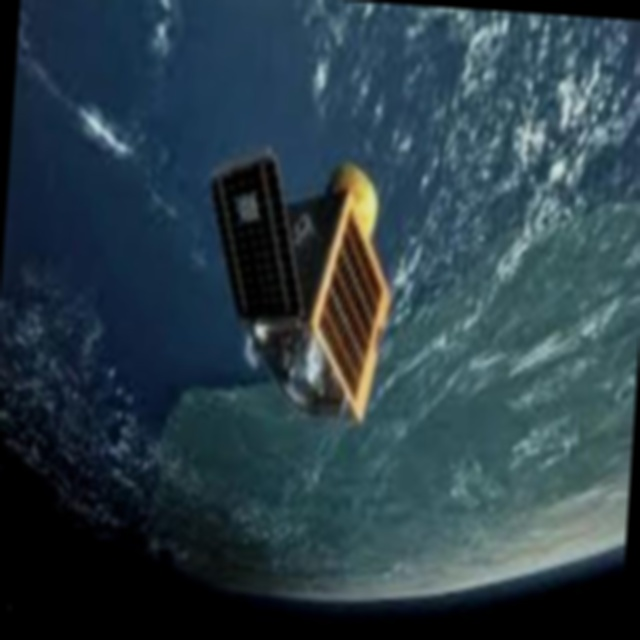satellite: (199, 126, 422, 432)
